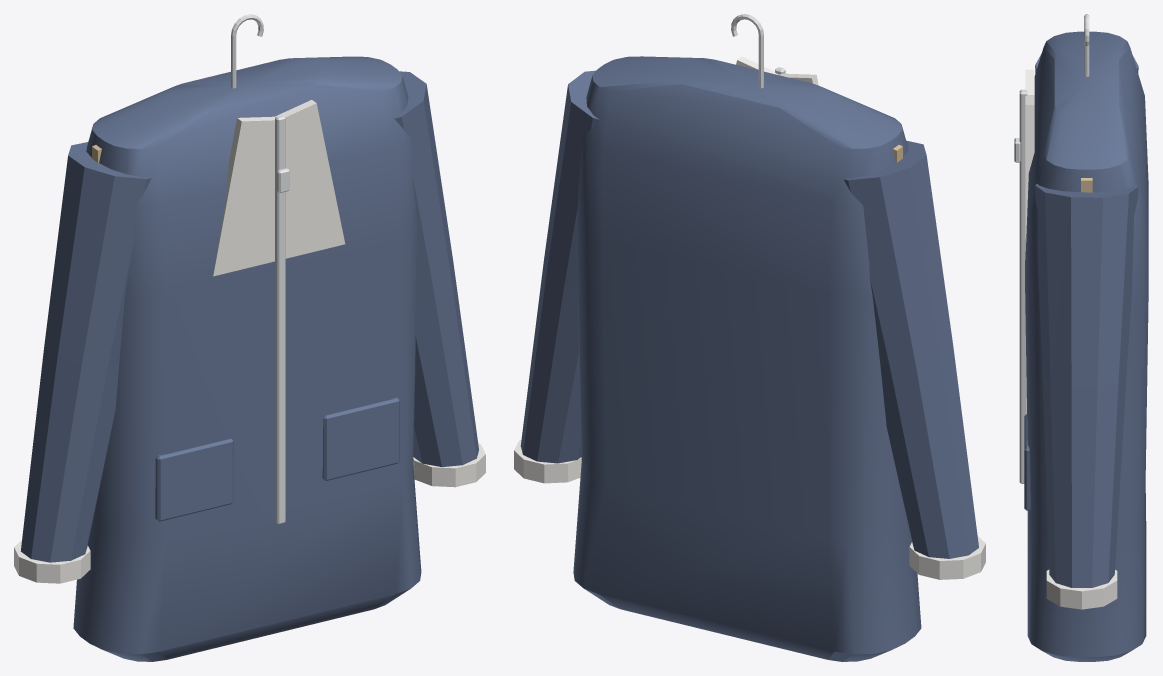
The model's file is clothing-rail-and-wardrobe-jacket-on-hanger-6b9e72e2__35454.glb.
3 renders of one model, left to right at view 1: azimuth 30°, elevation 25°; view 2: azimuth 150°, elevation 25°; view 3: azimuth 270°, elevation 25°, orthographic. The views are drawn at different scales.
Visible parts, largest first — view 1: jacket-on-hanger; view 2: jacket-on-hanger; view 3: jacket-on-hanger.
Boxes of the visible parts, x1,y1,x2,y2 form: jacket-on-hanger: (14, 14, 485, 661); jacket-on-hanger: (514, 14, 985, 661); jacket-on-hanger: (1014, 14, 1148, 661).
Bounding box in the file's own units: 0.6664 × 0.8313 × 0.174.
